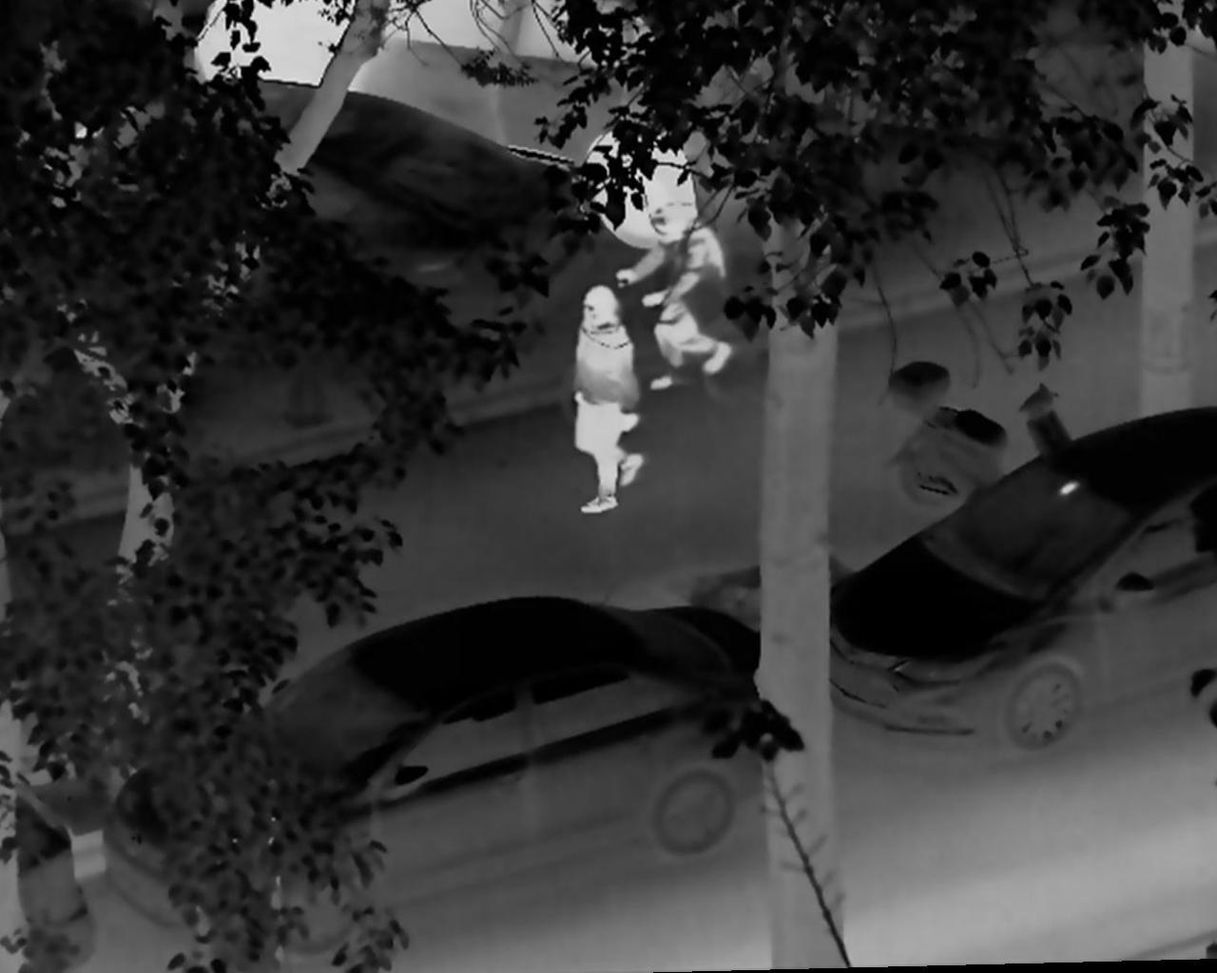person: (609, 192, 739, 397), (558, 284, 646, 512)
